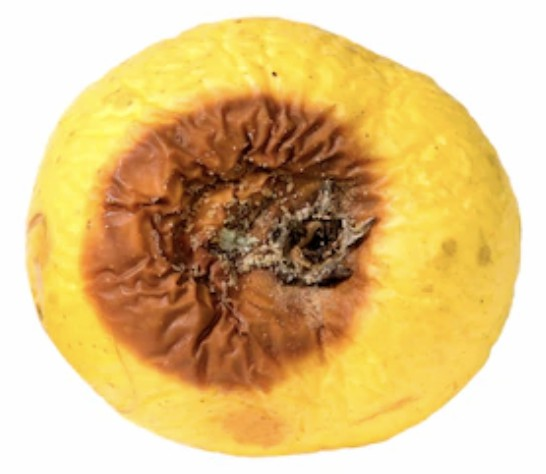rotten_apple: (26, 16, 521, 458)
